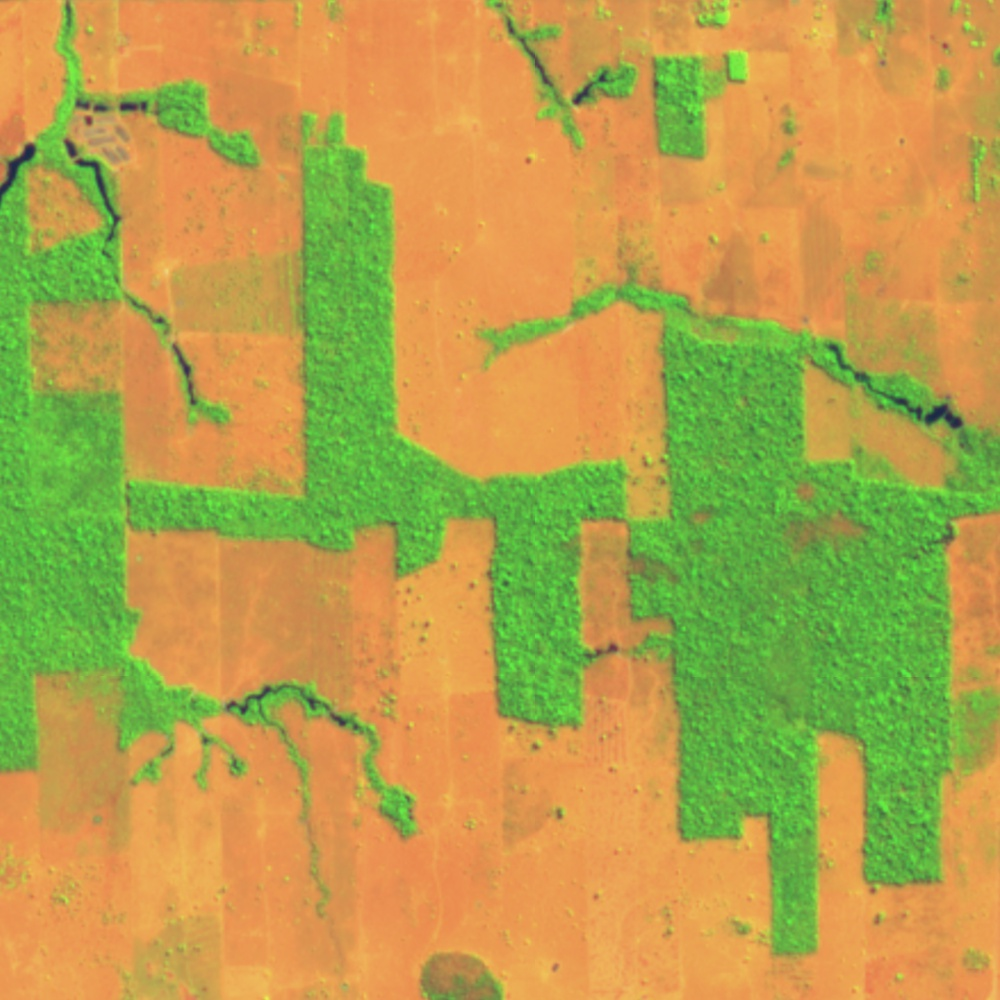illegal: (1, 86, 151, 262), (821, 337, 974, 439), (114, 268, 208, 412), (498, 9, 617, 112), (222, 680, 366, 737), (578, 638, 633, 666)
